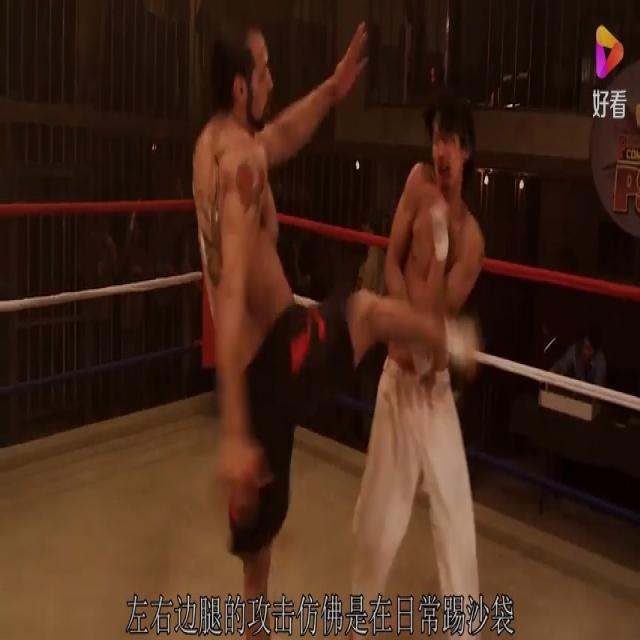fight: (187, 9, 499, 639)
